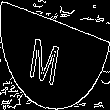M_N: (37, 25, 73, 85)
